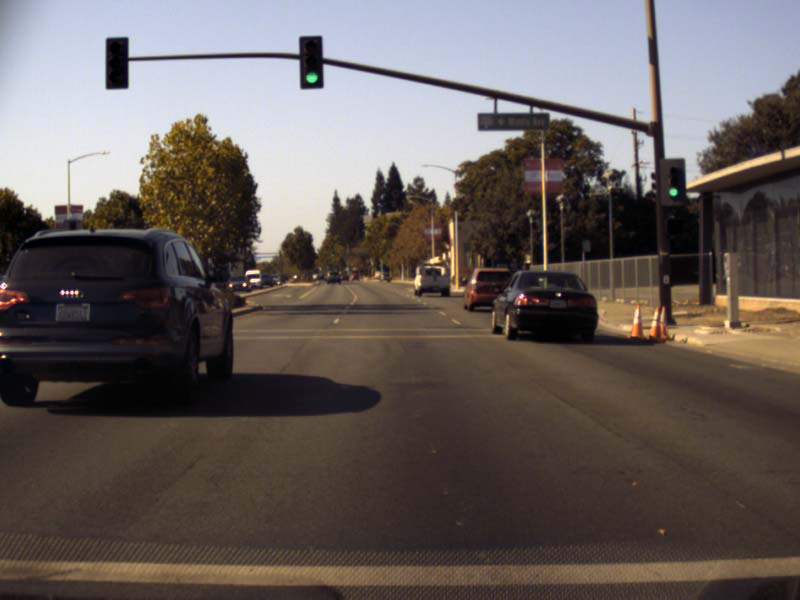Green: (658, 157, 685, 204), (301, 37, 323, 85), (331, 251, 334, 256)
